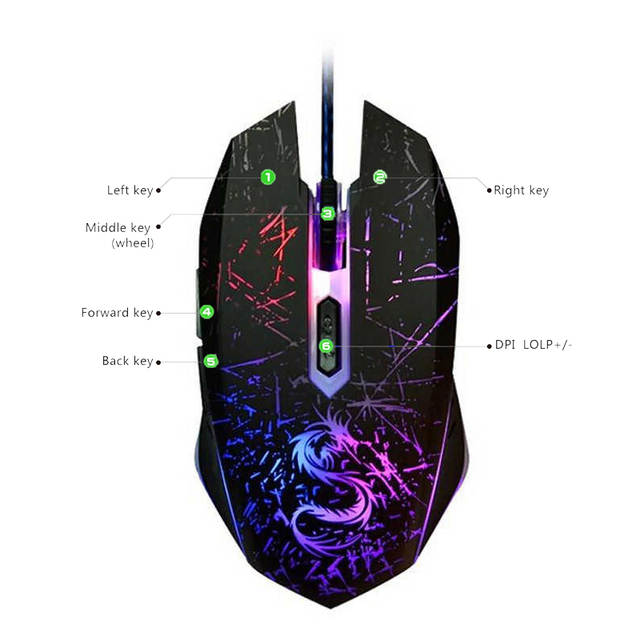Mouse: (184, 93, 476, 617)
